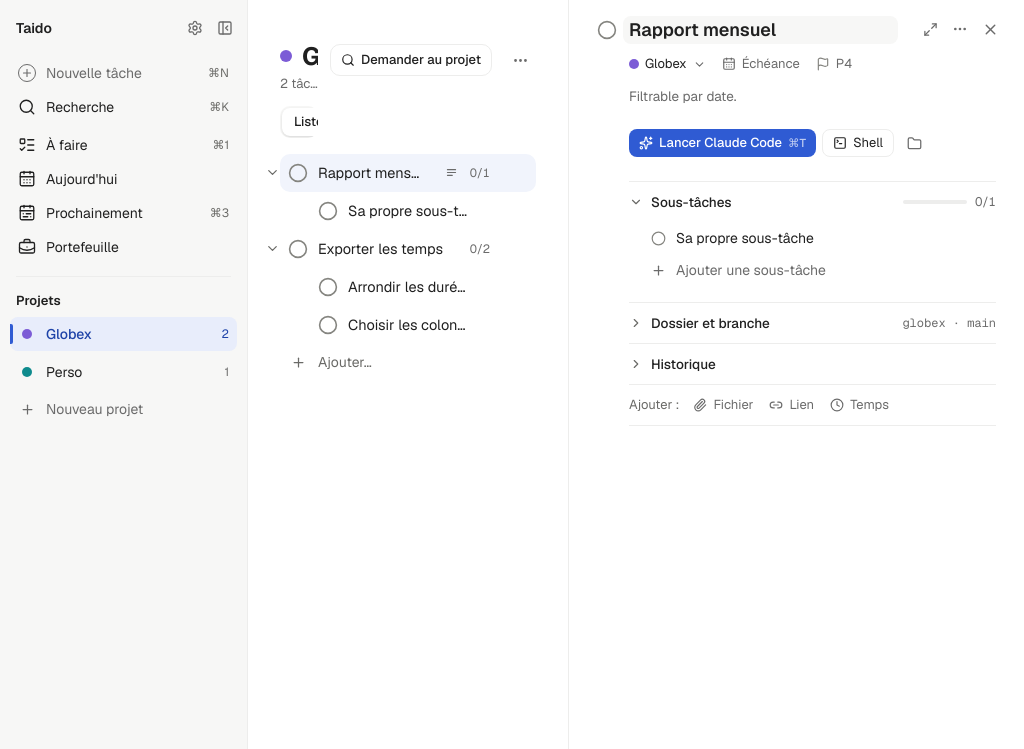
Test case: attachments and relations › browses every task without typing, subtasks under their task
Click the button "Lien" at x=792, y=405, box x1=764 y1=391 x2=820 y2=419
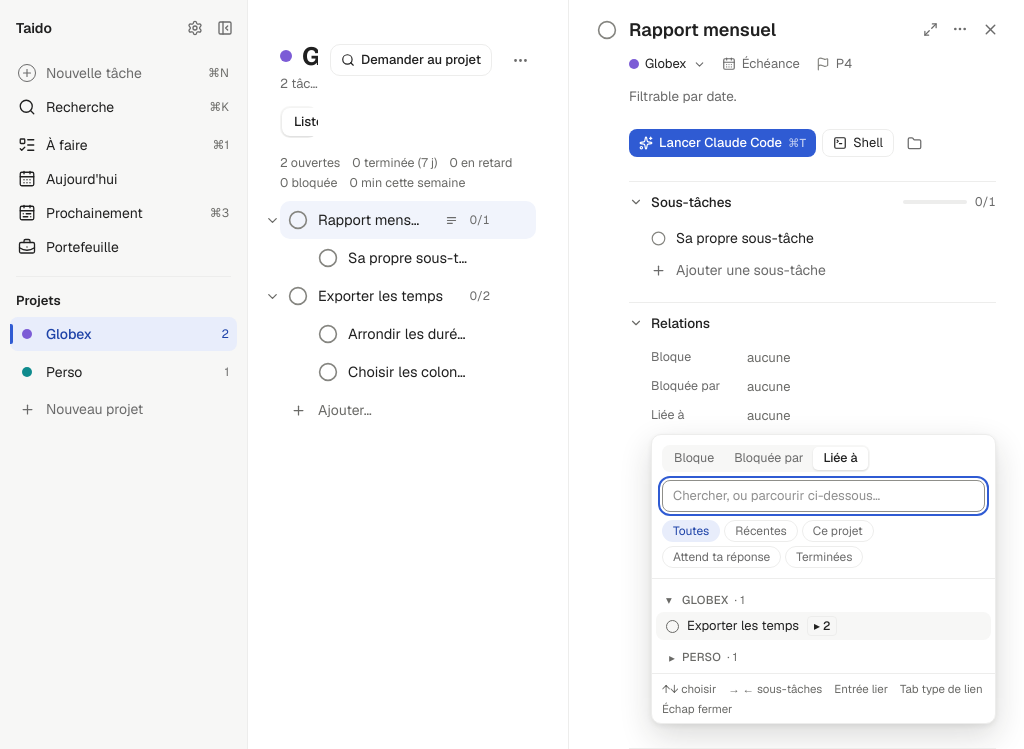
Click the button named "Afficher les 2 sous-tâches de « Exporter les temps »" at x=822, y=626, box x1=807 y1=616 x2=837 y2=636
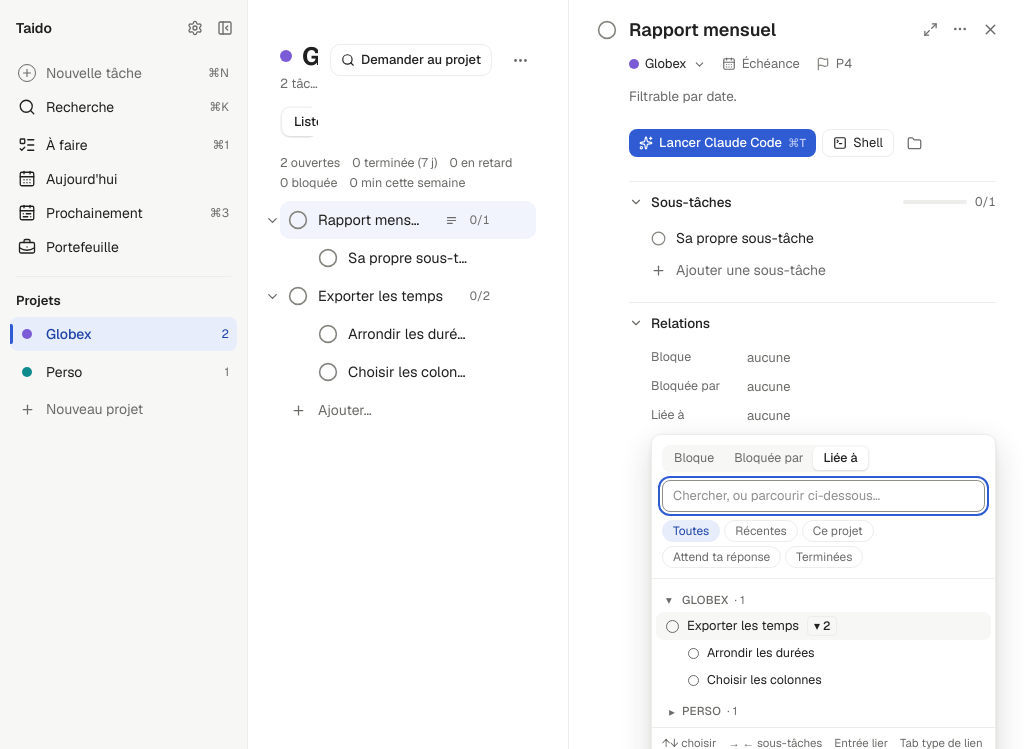
Press Arrowleft
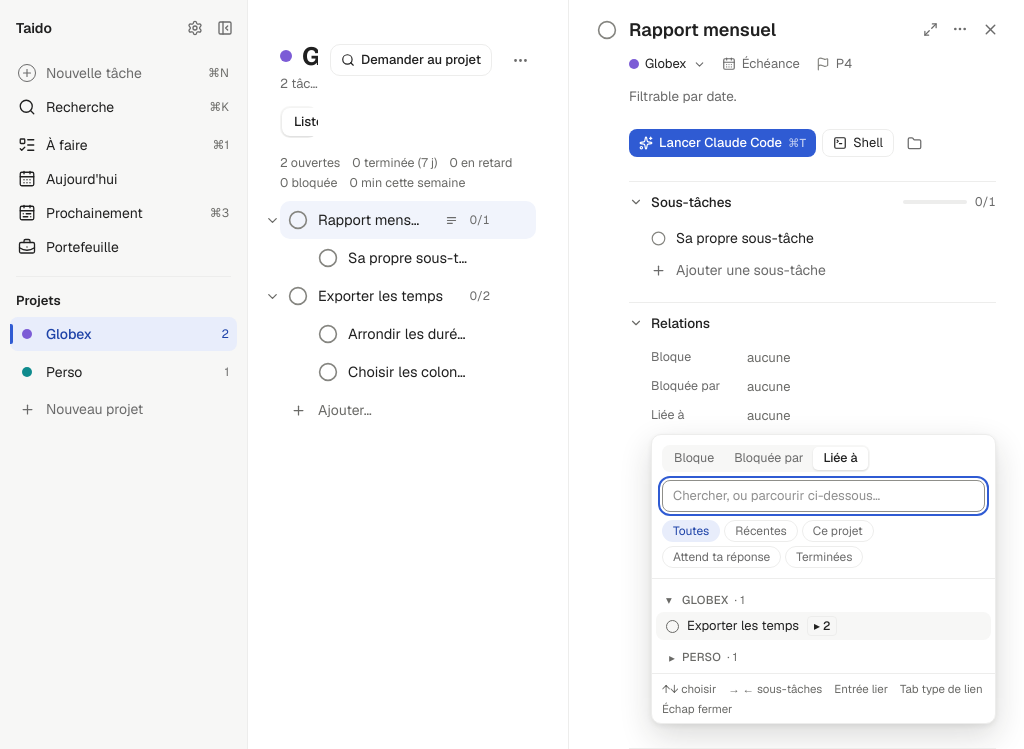
Press Arrowright Arrowdown
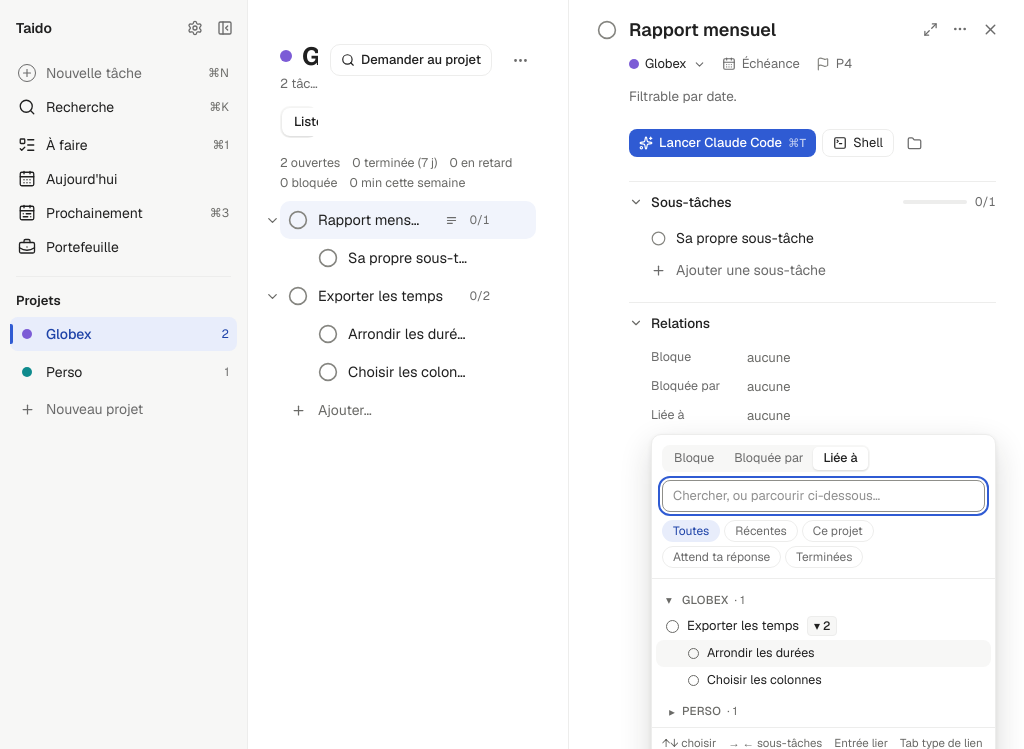
Press Tab
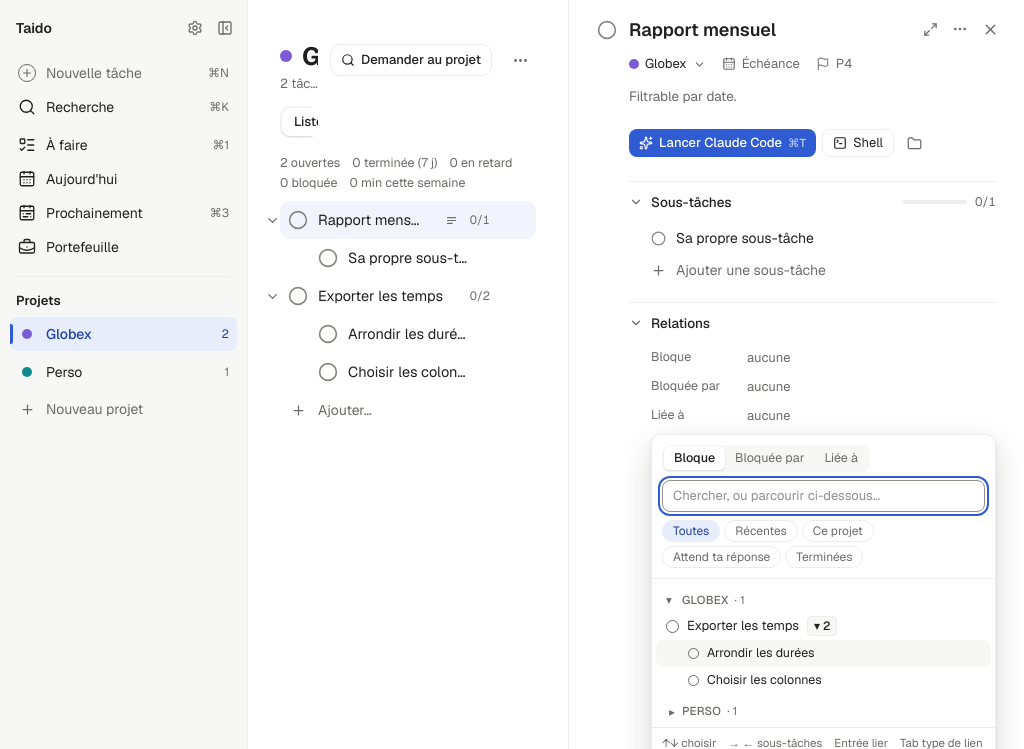
Result: the radio button labelled "Bloque" is checked at x1=664 y1=447 x2=725 y2=470
Press Enter
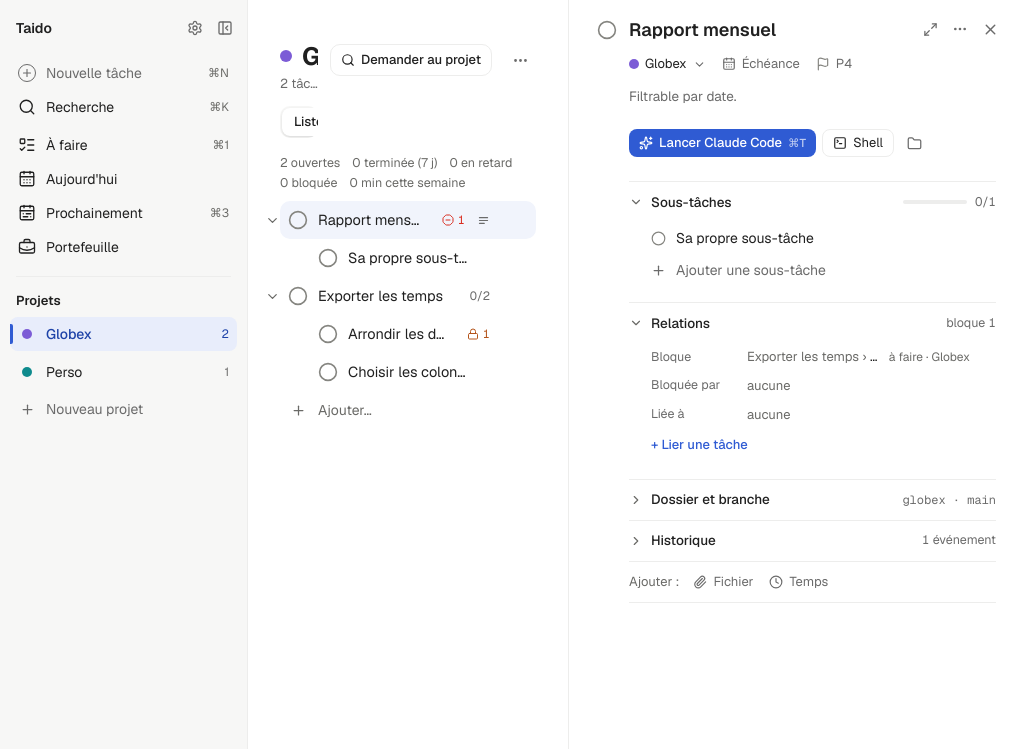
Expected: the text "Arrondir les durées" is shown, x1=348 y1=324 x2=447 y2=343
Result: the text "Exporter les temps ›" is shown at x1=747 y1=348 x2=877 y2=365
